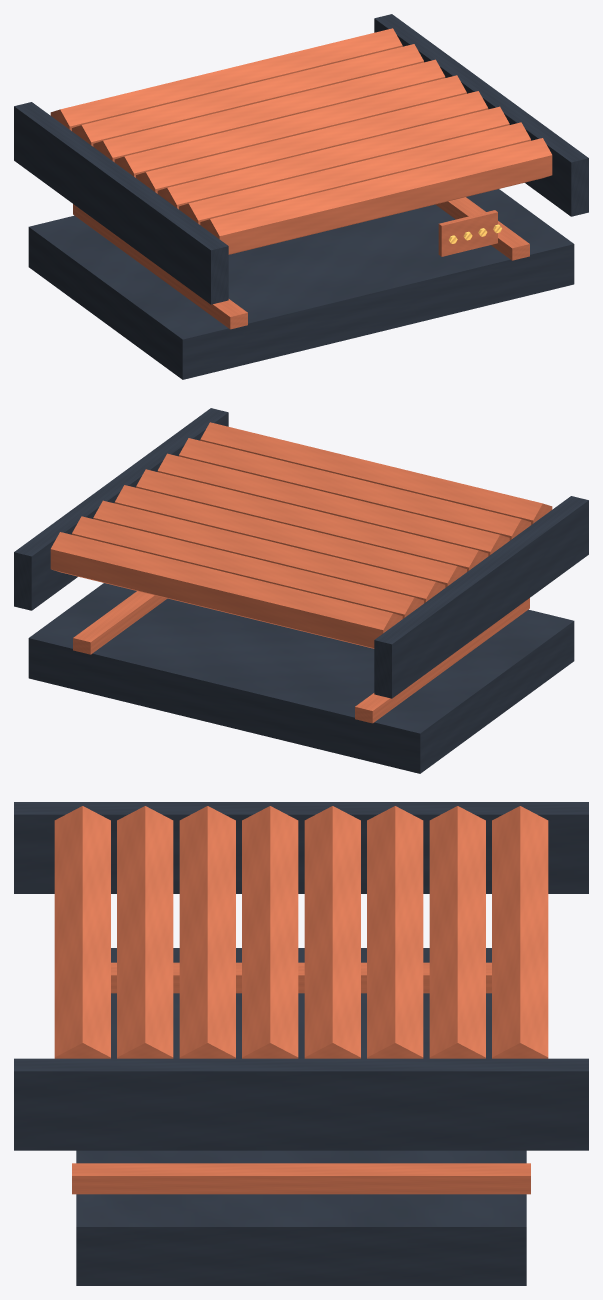
File: atlas100-s021-a02.glb
3 renders of one model, top to bottom at view 1: azimuth 30°, elevation 25°; view 2: azimuth 150°, elevation 25°; view 3: azimuth 270°, elevation 25°, orthographic. The views are drawn at different scales.
Visible parts, largest first — view 1: atlas100-s021-a02:part-000, atlas100-s021-a02:part-011, atlas100-s021-a02:part-010, atlas100-s021-a02:part-005, atlas100-s021-a02:part-004, atlas100-s021-a02:part-003, atlas100-s021-a02:part-006, atlas100-s021-a02:part-007, atlas100-s021-a02:part-008, atlas100-s021-a02:part-009, atlas100-s021-a02:part-012, atlas100-s021-a02:part-001 (+2 smaller); view 2: atlas100-s021-a02:part-000, atlas100-s021-a02:part-011, atlas100-s021-a02:part-003, atlas100-s021-a02:part-008, atlas100-s021-a02:part-009, atlas100-s021-a02:part-005, atlas100-s021-a02:part-006, atlas100-s021-a02:part-007, atlas100-s021-a02:part-010, atlas100-s021-a02:part-004, atlas100-s021-a02:part-012, atlas100-s021-a02:part-001 (+1 smaller); view 3: atlas100-s021-a02:part-012, atlas100-s021-a02:part-000, atlas100-s021-a02:part-011, atlas100-s021-a02:part-002, atlas100-s021-a02:part-003, atlas100-s021-a02:part-004, atlas100-s021-a02:part-005, atlas100-s021-a02:part-006, atlas100-s021-a02:part-007, atlas100-s021-a02:part-008, atlas100-s021-a02:part-009, atlas100-s021-a02:part-010 (+1 smaller).
Boxes of the visible parts, x1,y1,x2,y2 form: atlas100-s021-a02:part-000: (28,189,574,379); atlas100-s021-a02:part-011: (14,102,228,304); atlas100-s021-a02:part-010: (200,138,552,254); atlas100-s021-a02:part-005: (93,59,445,162); atlas100-s021-a02:part-004: (72,44,423,146); atlas100-s021-a02:part-003: (50,28,402,130); atlas100-s021-a02:part-006: (114,75,466,177); atlas100-s021-a02:part-007: (136,91,488,193); atlas100-s021-a02:part-008: (157,106,509,209); atlas100-s021-a02:part-009: (179,122,530,224); atlas100-s021-a02:part-012: (374,14,588,216); atlas100-s021-a02:part-001: (73,204,247,329); atlas100-s021-a02:part-000: (28,583,574,773); atlas100-s021-a02:part-011: (374,496,588,698); atlas100-s021-a02:part-003: (50,532,402,648); atlas100-s021-a02:part-008: (157,453,509,556); atlas100-s021-a02:part-009: (179,438,530,540); atlas100-s021-a02:part-005: (93,500,445,603); atlas100-s021-a02:part-006: (114,485,466,587); atlas100-s021-a02:part-007: (136,469,488,571); atlas100-s021-a02:part-010: (200,422,552,524); atlas100-s021-a02:part-004: (72,516,423,618); atlas100-s021-a02:part-012: (14,408,228,610); atlas100-s021-a02:part-001: (355,598,529,723); atlas100-s021-a02:part-012: (14,1058,588,1150); atlas100-s021-a02:part-000: (76,948,526,1285); atlas100-s021-a02:part-011: (14,802,588,893); atlas100-s021-a02:part-002: (72,1163,530,1194); atlas100-s021-a02:part-003: (492,806,548,1058); atlas100-s021-a02:part-004: (429,806,485,1058); atlas100-s021-a02:part-005: (367,806,423,1058); atlas100-s021-a02:part-006: (304,806,360,1058); atlas100-s021-a02:part-007: (242,806,298,1058); atlas100-s021-a02:part-008: (179,806,235,1058); atlas100-s021-a02:part-009: (117,806,173,1058); atlas100-s021-a02:part-010: (54,806,110,1058).
Bounding box in the file's own units: 2.64 × 0.98 × 2.3.
Materials: 3 (3 with a texture image).
